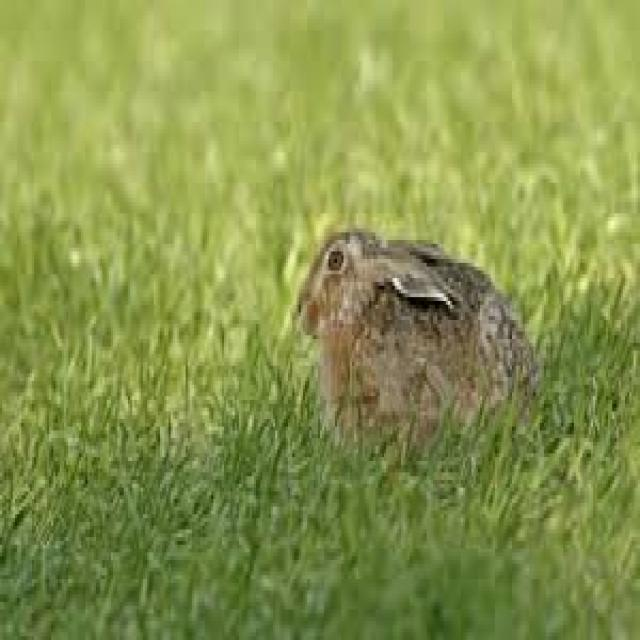hare: (297, 229, 535, 438)
